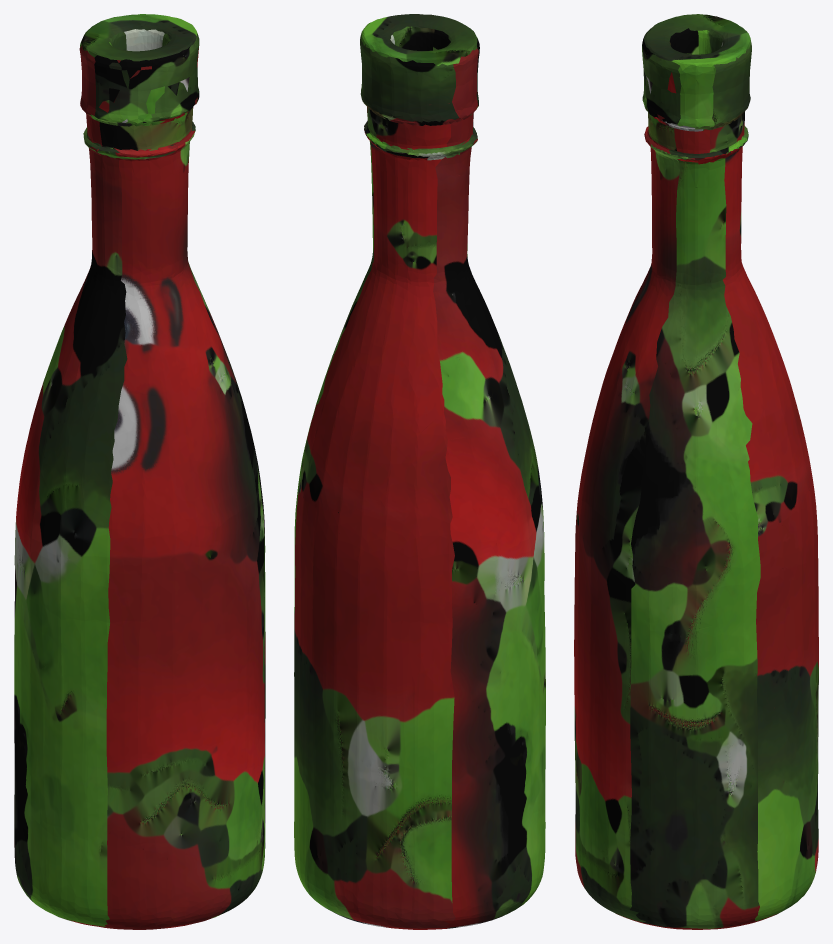
The model's file is sample.obj.
3 renders of one model, left to right at view 1: azimuth 30°, elevation 25°; view 2: azimuth 150°, elevation 25°; view 3: azimuth 270°, elevation 25°, orthographic.
Bounding box in the file's own units: 0.075 × 0.275 × 0.0722.
